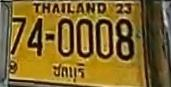0: (95, 18, 112, 58), (76, 18, 93, 57), (57, 18, 73, 56)
4: (27, 17, 42, 55)
7: (10, 16, 25, 54)
8: (115, 18, 133, 60)
CBI: (51, 60, 89, 87)
